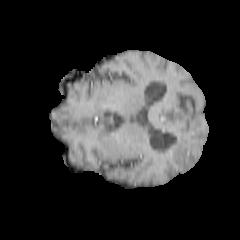glioma: (169, 136, 197, 168)
